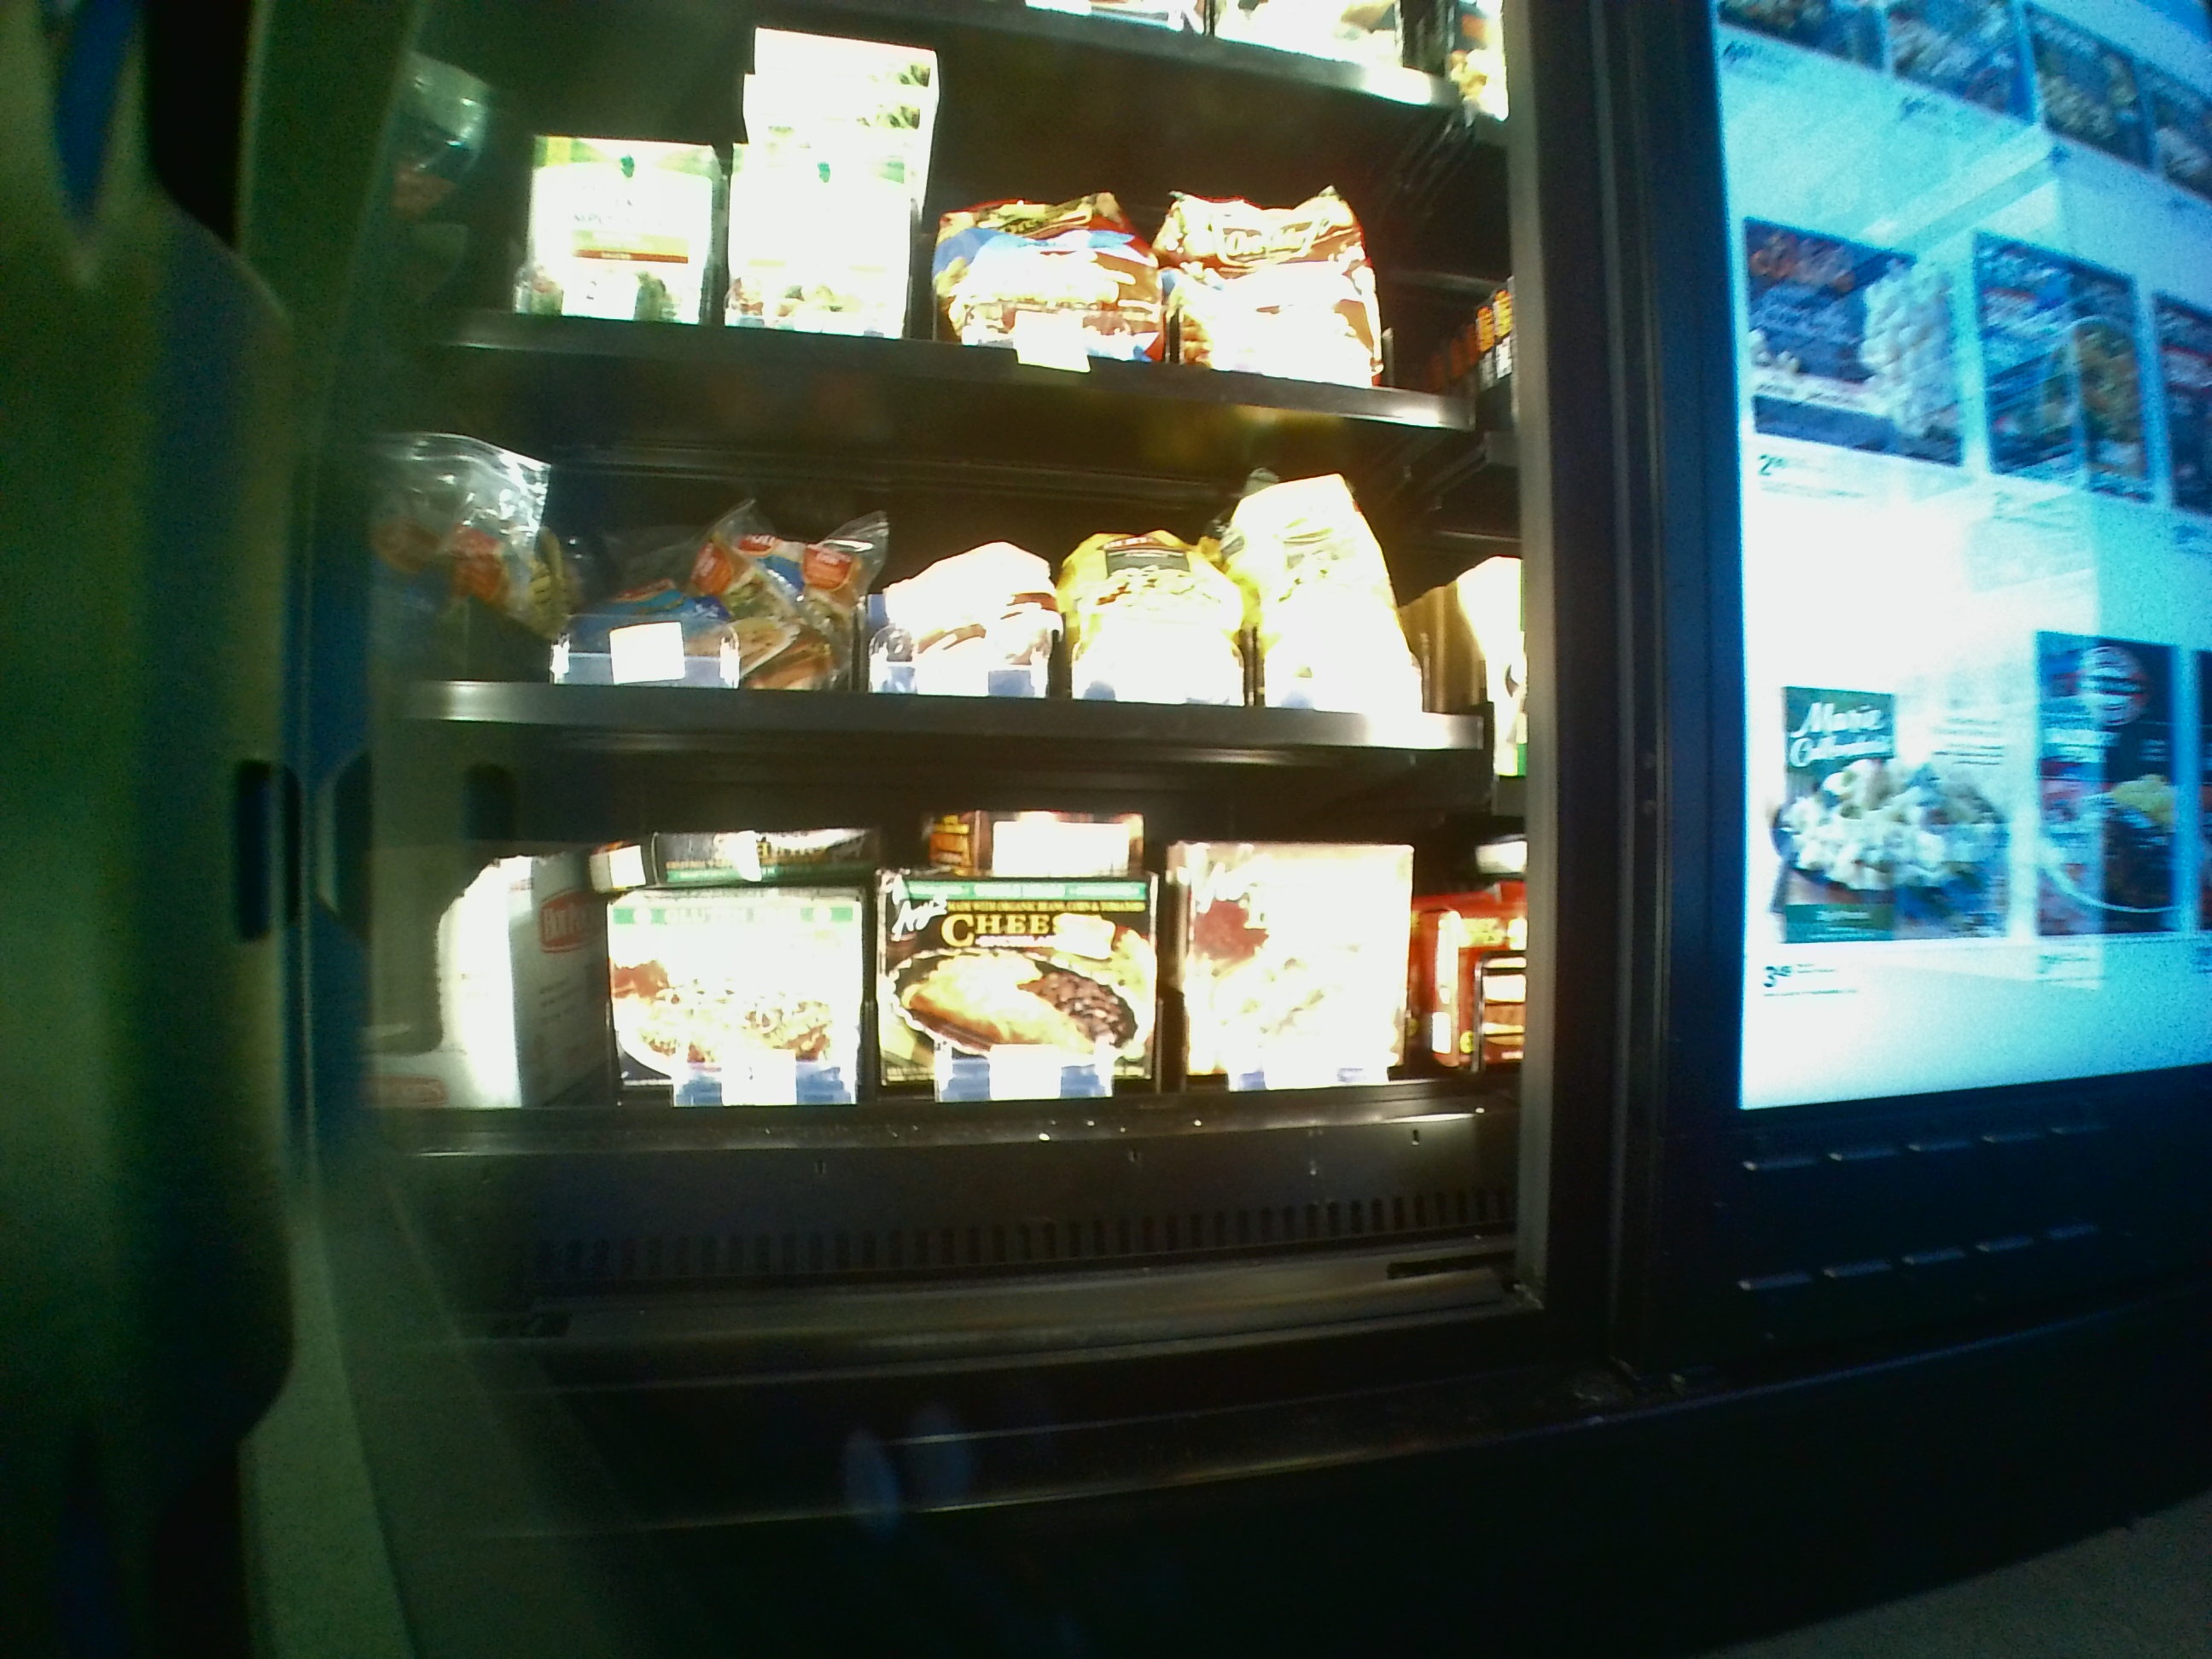shelf: (364, 742, 1529, 1300), (394, 352, 1515, 732)
